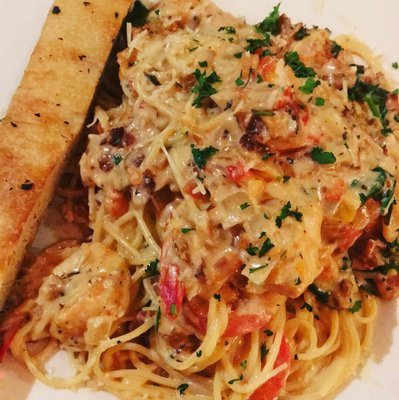curry: (283, 50, 320, 94)
